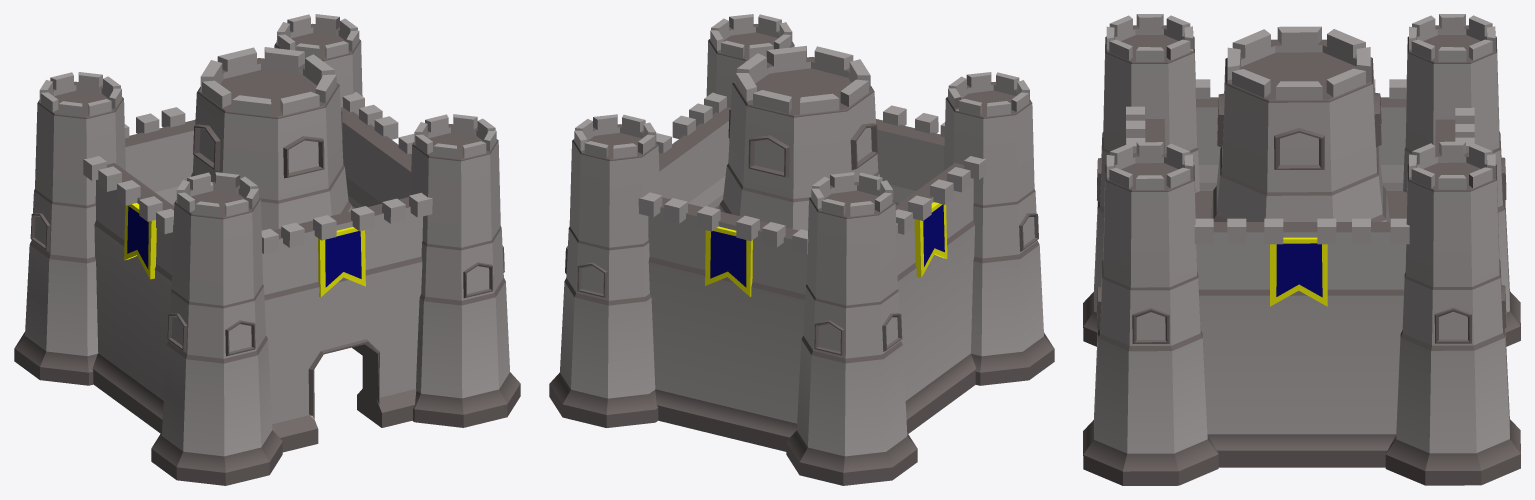
File: Castle.fbx
The picture shows the model from 3 angles, left to right: view 1: azimuth 30°, elevation 25°; view 2: azimuth 150°, elevation 25°; view 3: azimuth 270°, elevation 25°; orthographic projection. The views are drawn at different scales.
Visible parts, largest first — view 1: pillar2, pillar1, Main_Wall, pillar5, pillar3, Wall3, Wall1, pillar4, Wall2, Flag1, Flag4, pCube20 (+1 smaller); view 2: pillar5, Wall2, pillar4, pillar2, pillar3, Wall3, Wall1, pillar1, Main_Wall, Flag3, Flag4, pCube19 (+1 smaller); view 3: Wall1, pillar1, pillar4, pillar3, pillar5, pillar2, Wall3, Flag2, pCube4 (×2), Top_Wall, pCube18, pCube8 (+7 smaller).
Boxes of the visible parts, x1,y1,x2,y2 form: pillar2: [151, 172, 282, 485]; pillar1: [410, 114, 520, 427]; Main_Wall: [262, 197, 422, 452]; pillar5: [14, 72, 125, 385]; pillar3: [191, 47, 352, 230]; Wall3: [92, 163, 174, 433]; Wall1: [341, 107, 411, 355]; pillar4: [274, 14, 362, 107]; Wall2: [125, 120, 195, 205]; Flag1: [318, 227, 365, 297]; Flag4: [124, 203, 156, 279]; pCube20: [283, 136, 324, 178]; pillar5: [786, 172, 917, 485]; Wall2: [648, 197, 807, 451]; pillar4: [549, 114, 659, 427]; pillar2: [943, 72, 1054, 385]; pillar3: [719, 45, 879, 230]; Wall3: [895, 163, 976, 433]; Wall1: [659, 107, 730, 208]; pillar1: [706, 14, 794, 107]; Main_Wall: [876, 119, 944, 205]; Flag3: [705, 226, 752, 296]; Flag4: [914, 202, 947, 277]; pCube19: [748, 135, 789, 177]; Wall1: [1196, 222, 1406, 467]; pillar1: [1083, 142, 1218, 485]; pillar4: [1385, 141, 1520, 485]; pillar3: [1210, 26, 1389, 221]; pillar5: [1403, 14, 1520, 346]; pillar2: [1083, 14, 1199, 346]; Wall3: [1196, 97, 1406, 190]; Flag2: [1270, 237, 1327, 306]; pCube4 (×2): [1132, 307, 1471, 343]; Top_Wall: [1195, 191, 1406, 221]; pCube18: [1274, 128, 1324, 169]; pCube8: [1227, 218, 1246, 244].
Size of the model in its own units: 10.11 by 8.56 by 10.09.
